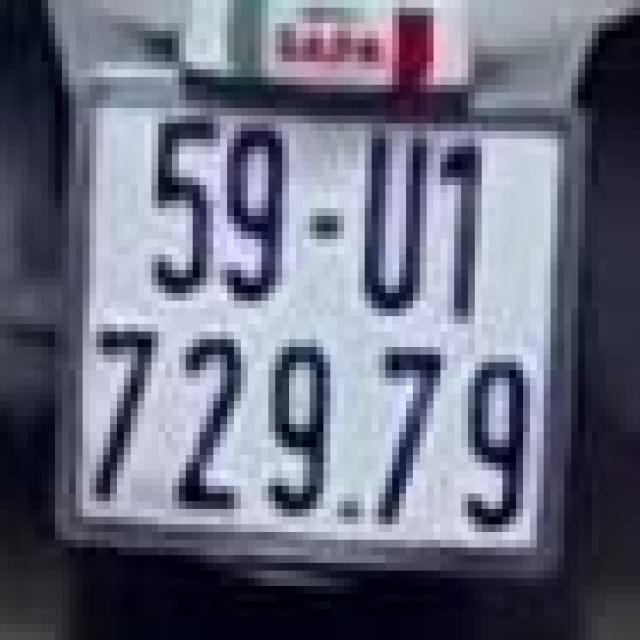1: (440, 120, 502, 336)
2: (172, 324, 255, 524)
5: (138, 100, 227, 308)
7: (365, 339, 454, 532), (90, 297, 152, 513)
9: (258, 339, 341, 517), (224, 112, 299, 304), (461, 347, 530, 540)
U: (337, 120, 434, 320)
